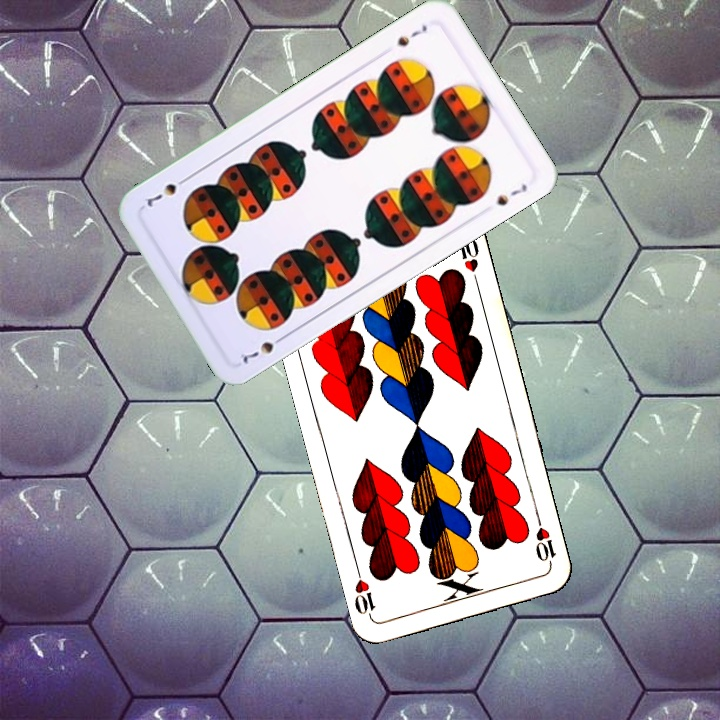H10: (531, 512, 559, 571)
S7: (236, 330, 289, 366), (393, 20, 430, 49)
